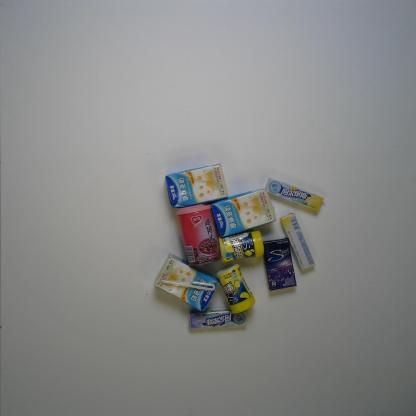Candy: (262, 176, 323, 212), (278, 213, 316, 269), (189, 308, 246, 328)
Canned Food: (176, 203, 223, 266)
Gum: (261, 238, 298, 291), (217, 264, 254, 315), (216, 230, 265, 265)
Milk: (154, 255, 222, 312), (215, 188, 277, 238), (164, 162, 228, 208)
